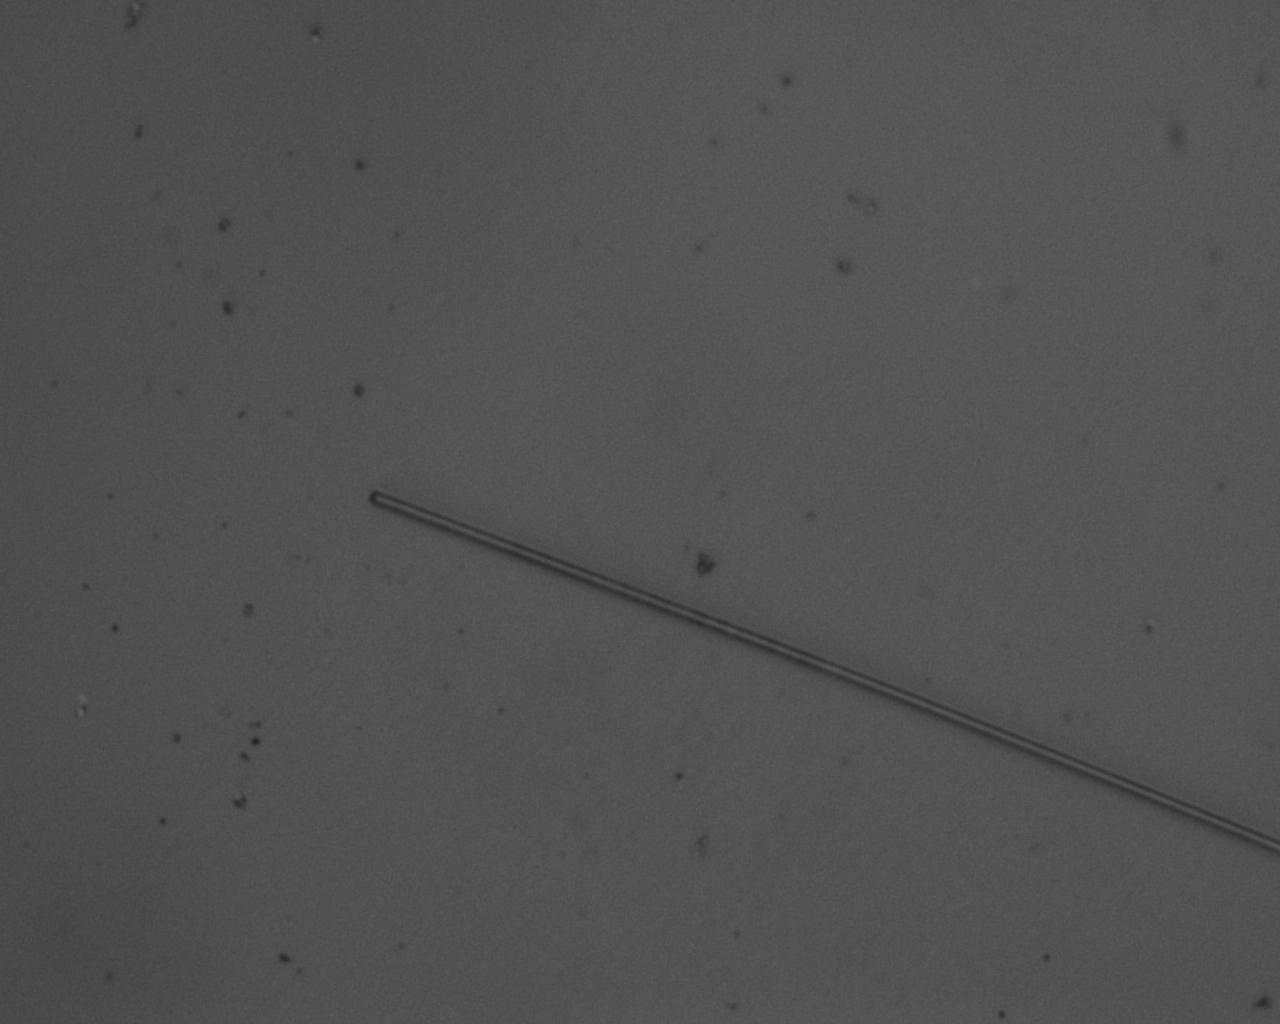fiber: (0, 634, 631, 1024), (0, 199, 652, 369), (802, 634, 1002, 1024), (652, 404, 1266, 506)
